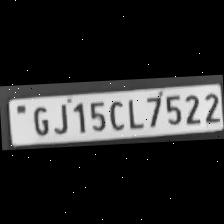1: (68, 99, 88, 134)
2: (198, 90, 220, 124), (180, 90, 200, 126)
5: (84, 97, 106, 132), (160, 92, 182, 126)
7: (141, 93, 163, 127)
C: (105, 97, 125, 131)
G: (27, 101, 50, 135)
J: (48, 100, 70, 134)
L: (122, 96, 144, 130)
